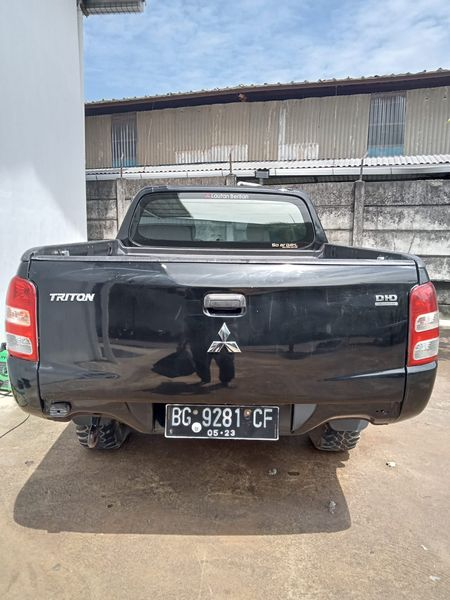plate: (168, 404, 278, 441)
